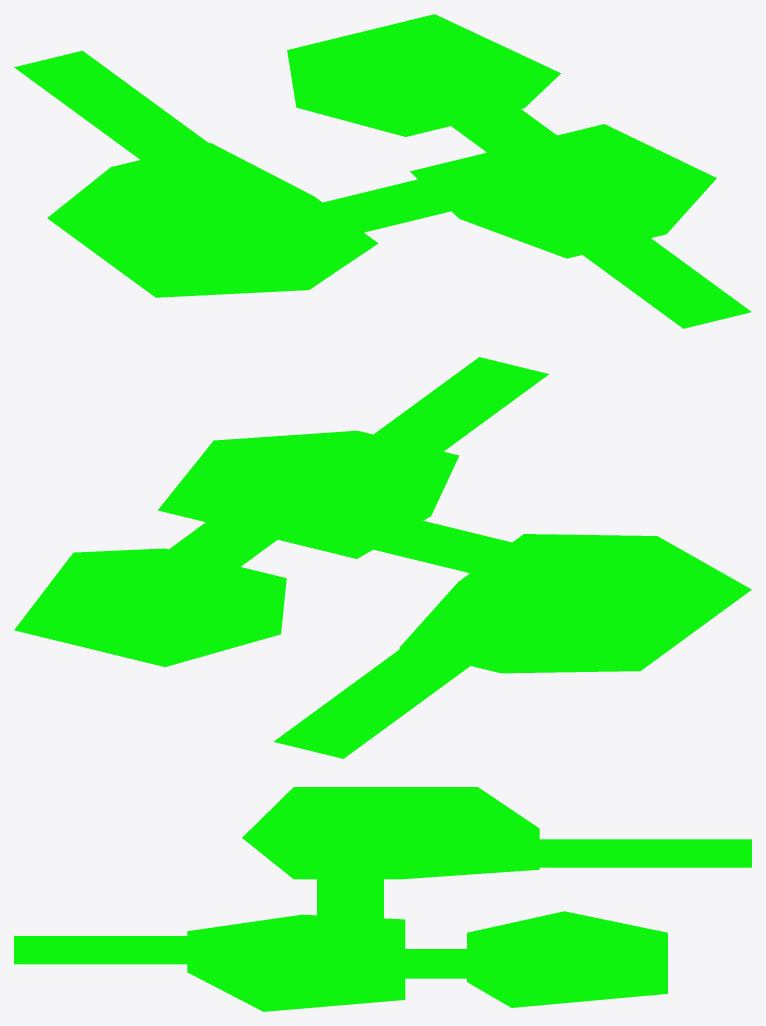
Rendered from s03a_ic1-floor.glb.
3 views of the same model, one above another, from view 1: azimuth 30°, elevation 25°; view 2: azimuth 150°, elevation 25°; view 3: azimuth 270°, elevation 25° (orthographic). The views are drawn at different scales.
Parts seen in each view (by area): view 1: collision_floor-colonly; view 2: collision_floor-colonly; view 3: collision_floor-colonly.
Part boxes in pixels (x1,y1,x2,y2): collision_floor-colonly: (14, 14, 751, 328); collision_floor-colonly: (14, 357, 751, 758); collision_floor-colonly: (14, 787, 751, 1011).
Size of the model in its own units: 47.57 by 0.1992 by 66.
